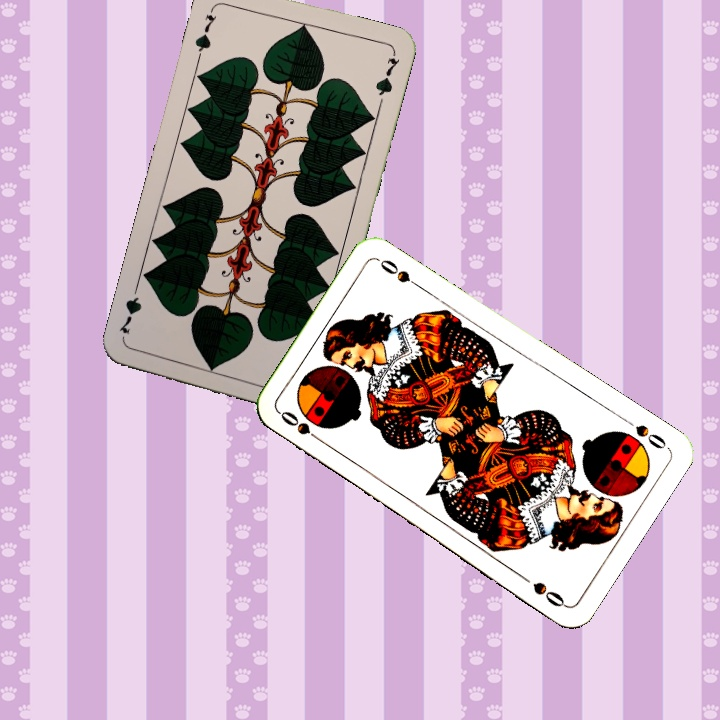G7: (191, 3, 220, 61)
SO: (276, 406, 328, 447), (618, 413, 671, 452)
